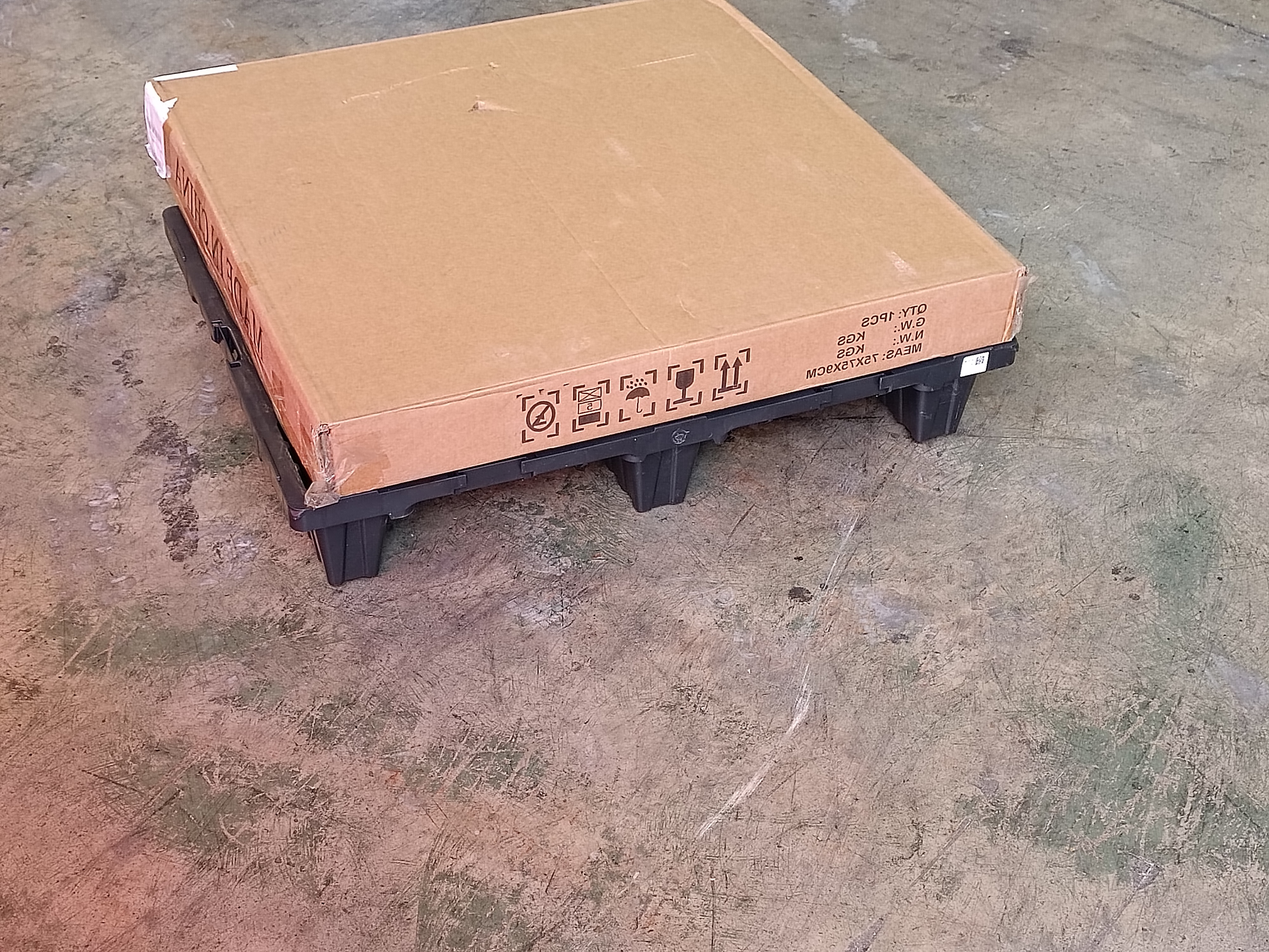block: (309, 511, 397, 595), (627, 438, 704, 516), (912, 374, 982, 447)
front: (292, 356, 1018, 612)
hole pallet: (386, 445, 654, 588), (693, 390, 923, 500)
